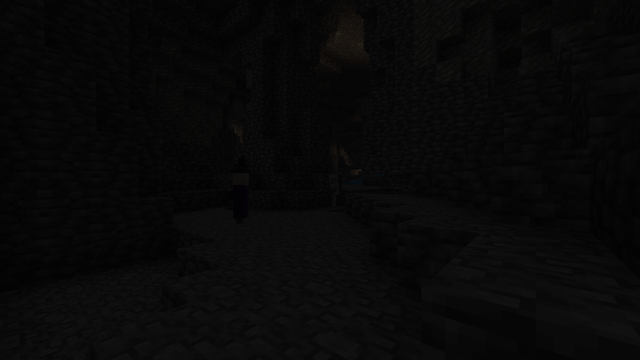sorcieres: (229, 170, 252, 224)
squelettes: (328, 173, 338, 206)
